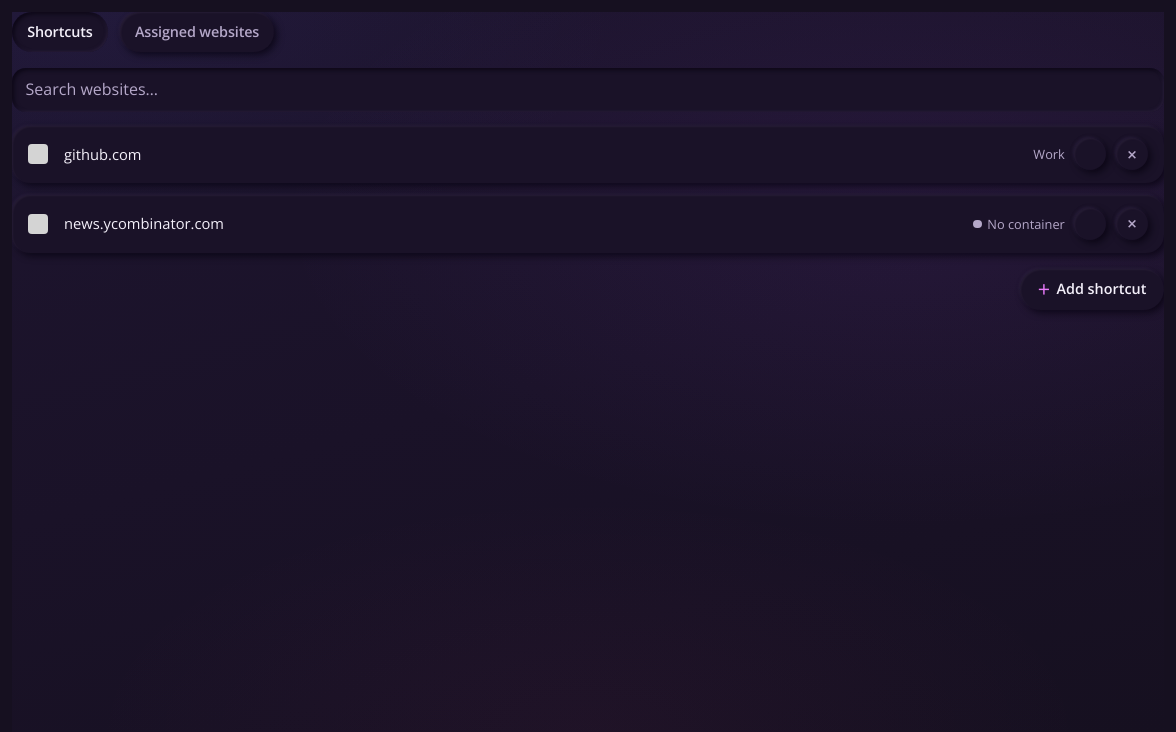
Test case: SitesPanel › keeps the form open and shows the message when adding fails
The image size is (1176, 732).
Click the button "+ Add shortcut" at (1092, 289), box [1020,269,1164,310]
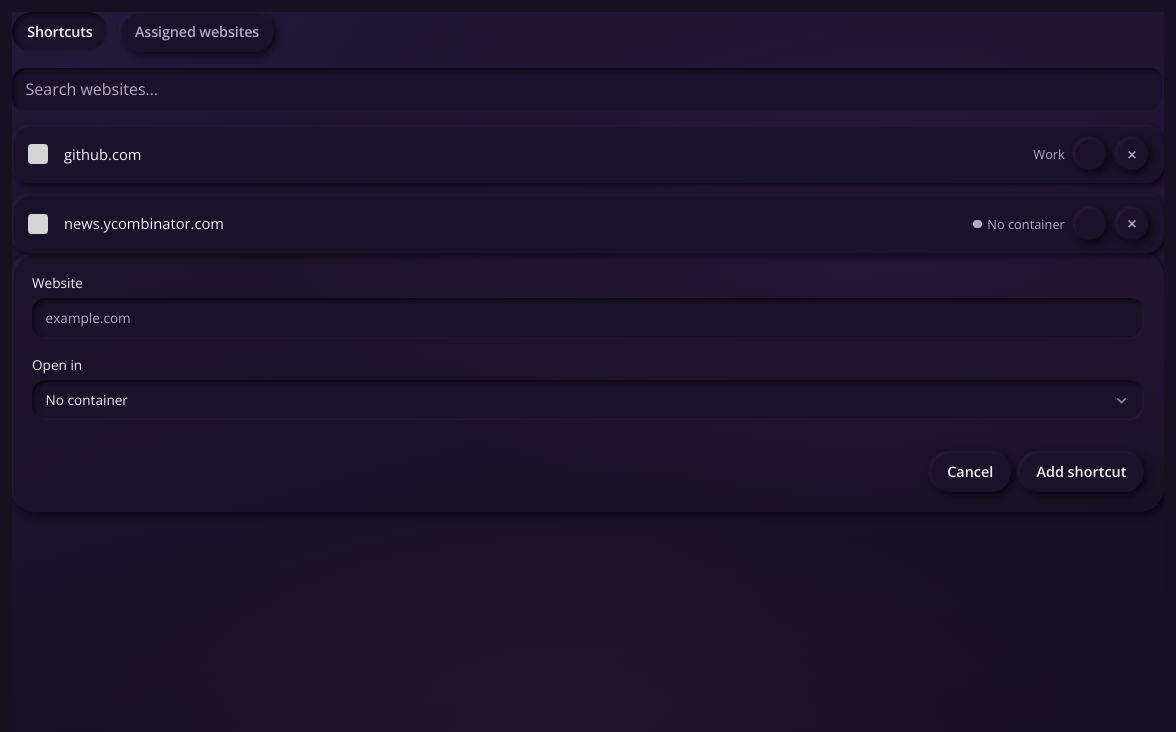
Type "news.ycombinator.com" into the field labelled "Website" at (588, 318), box [32,298,1144,338]
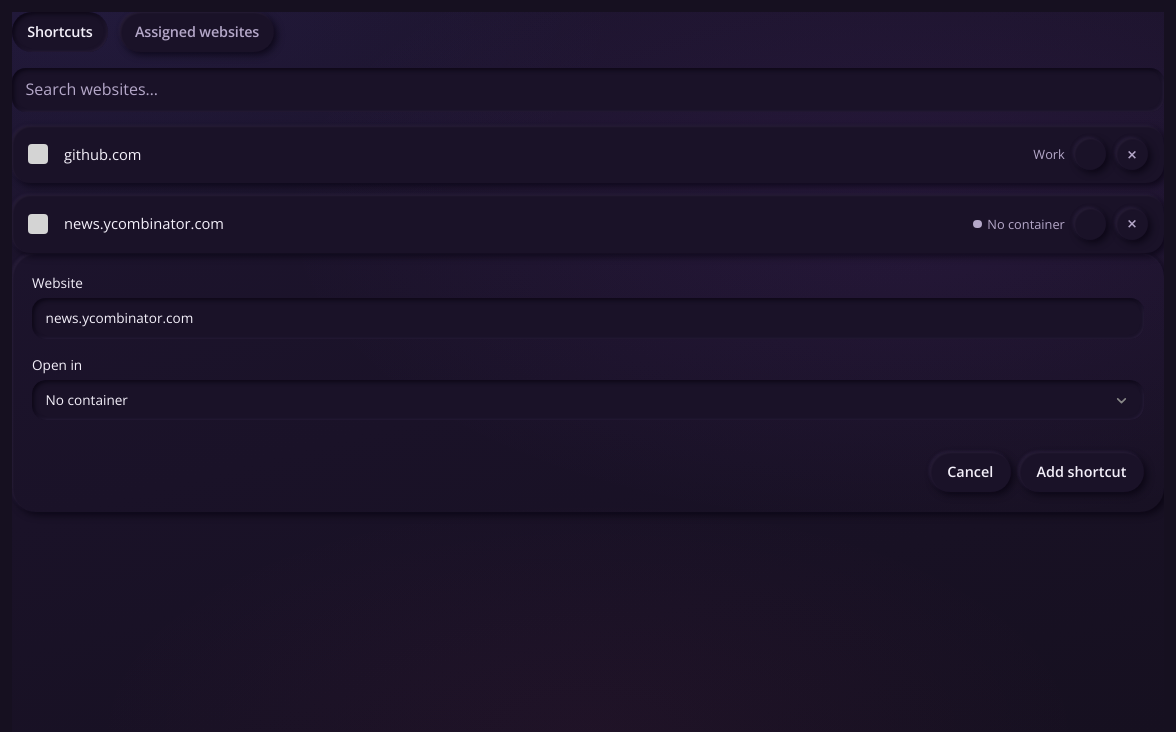
Submit the form, box [12,253,1164,512]
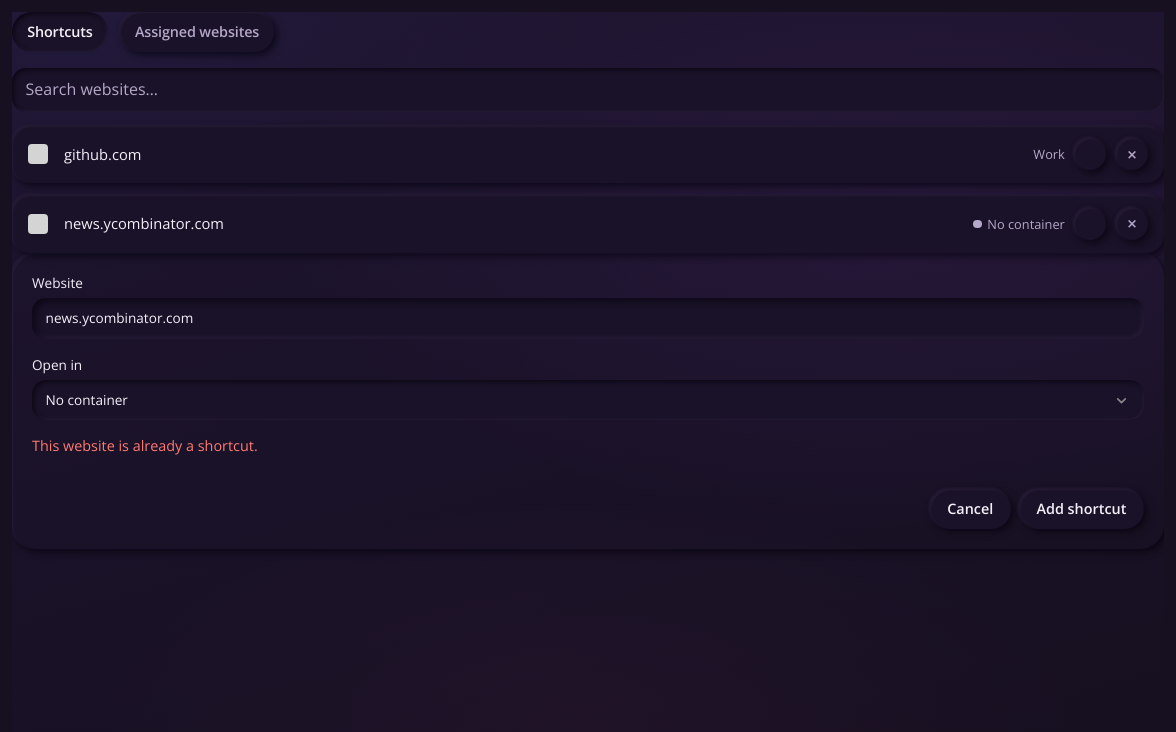
Result: the form is shown at [12,253,1164,549]
Result: the message "This website is already a shortcut." is shown at [32,436,258,455]
